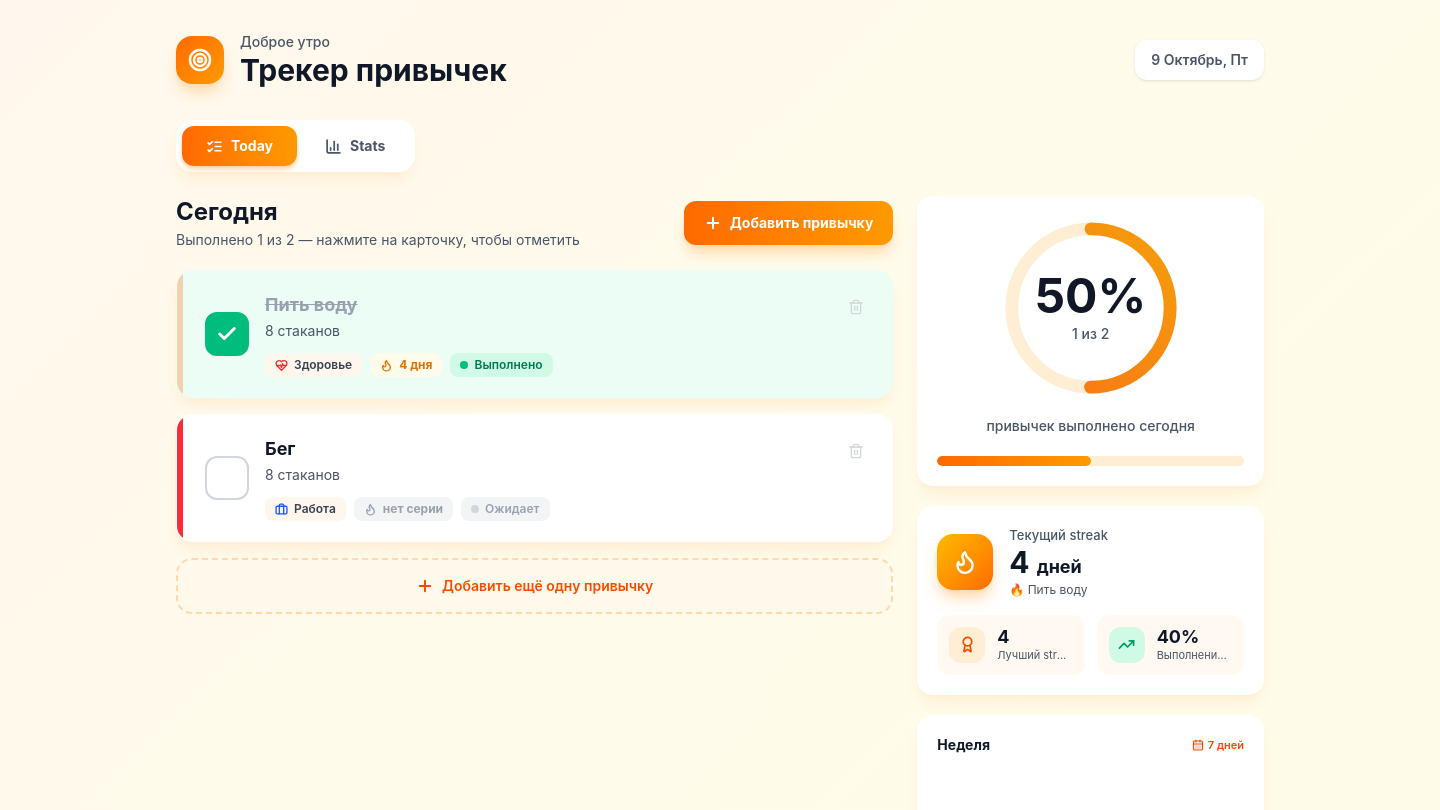
Test case: Stats — вкладка › переключается на Stats и обратно
Click the button "Stats": [355, 146] box [301, 126, 409, 166]
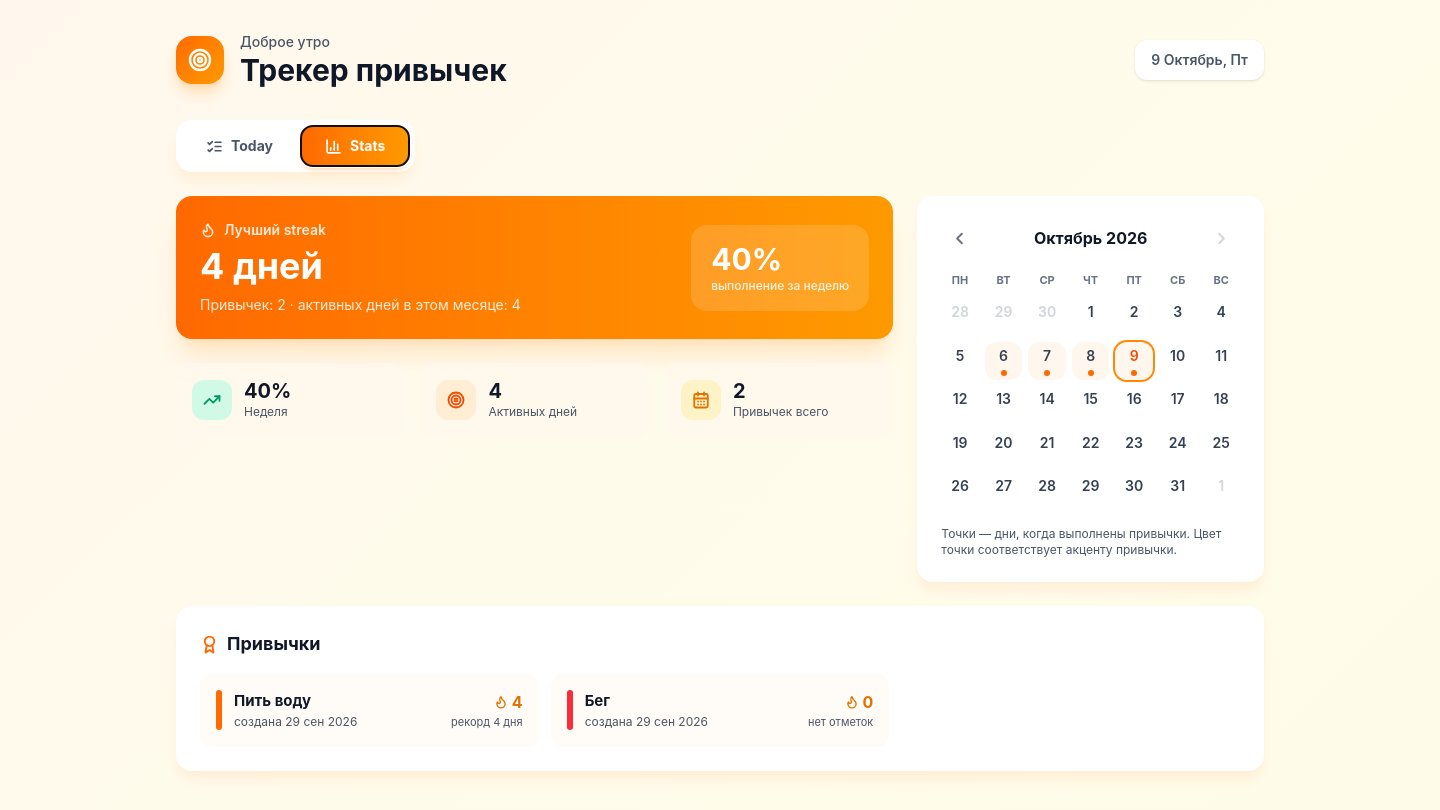
Expected: the text "Лучший streak" is shown, [200, 221, 326, 238]
Expected: the heading "Привычки" is shown, [200, 633, 320, 654]
Expected: the heading "Сегодня" is gone
Click the button "Today": [240, 146] box [182, 126, 297, 166]
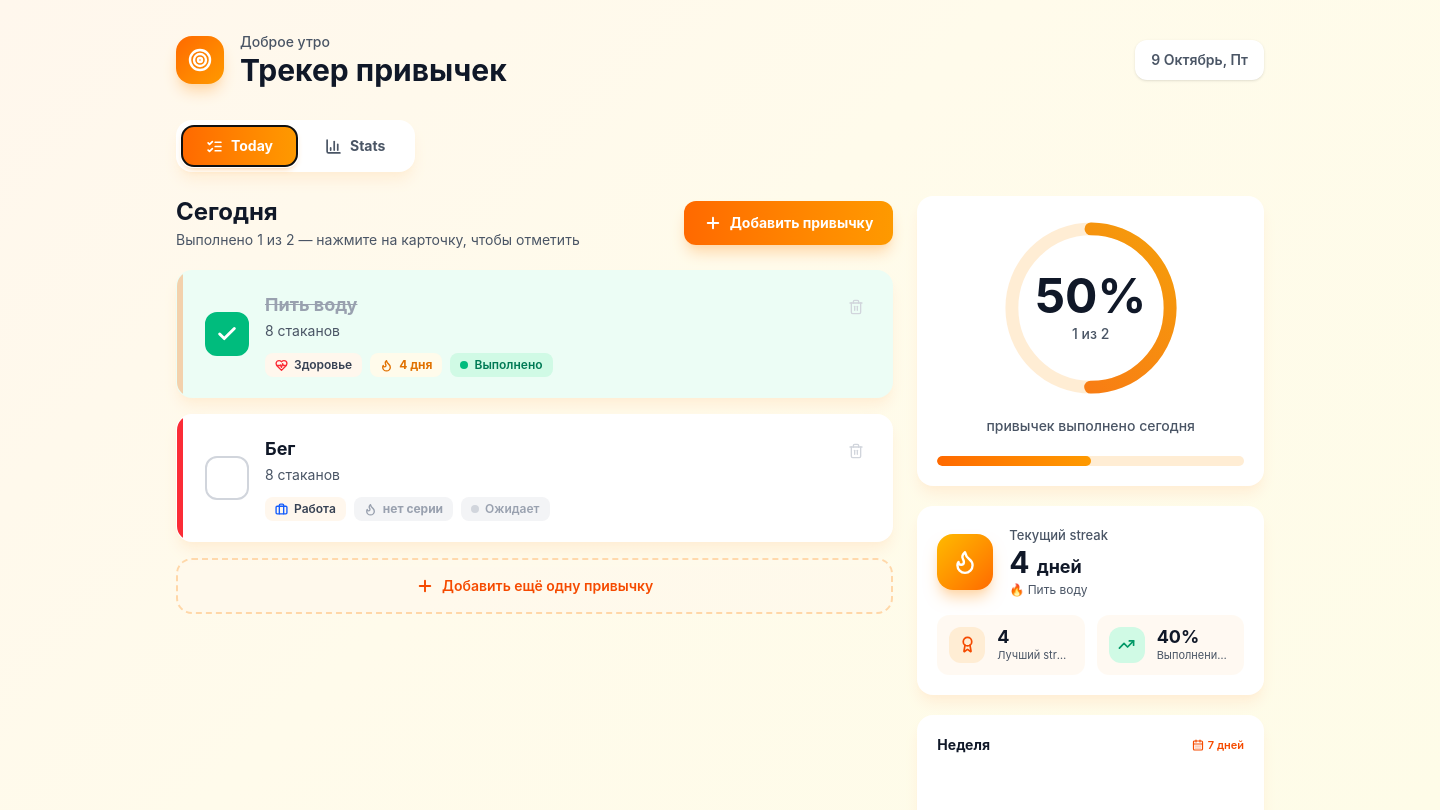
Expected: the heading "Сегодня" is shown, [176, 197, 278, 226]
